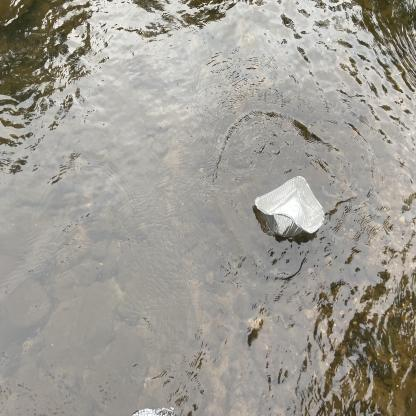trash: (252, 171, 327, 242), (128, 403, 180, 416)
